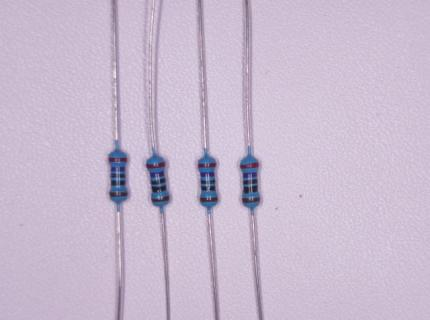Black band: (243, 185, 258, 194), (152, 184, 166, 192), (151, 178, 166, 185), (201, 185, 216, 191), (111, 180, 126, 186), (201, 178, 215, 184), (243, 179, 258, 184), (111, 174, 126, 178)
Brown band: (151, 194, 170, 203), (242, 196, 260, 204), (109, 191, 128, 198), (200, 197, 218, 203)
Red band: (240, 161, 259, 169), (145, 161, 165, 168), (198, 163, 217, 168), (108, 157, 127, 162)
Violet band: (150, 171, 165, 178), (111, 166, 126, 172), (243, 172, 257, 178), (201, 171, 214, 177)
